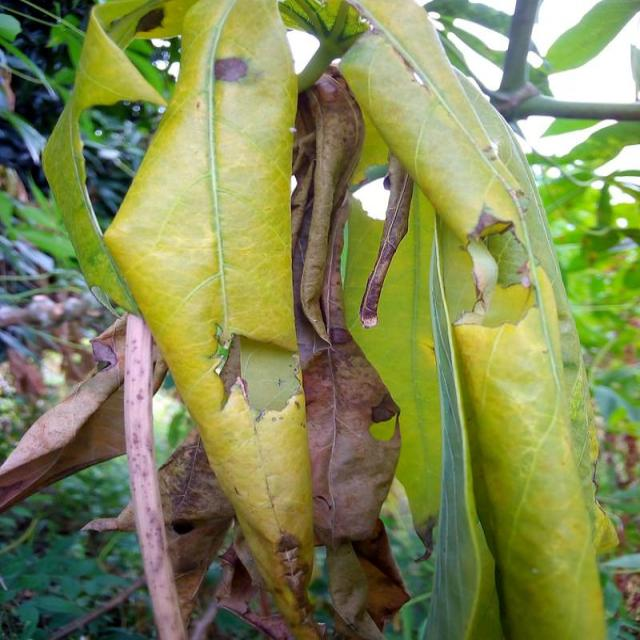cassava leaf: (17, 0, 620, 638), (336, 0, 617, 637), (98, 0, 320, 637)
